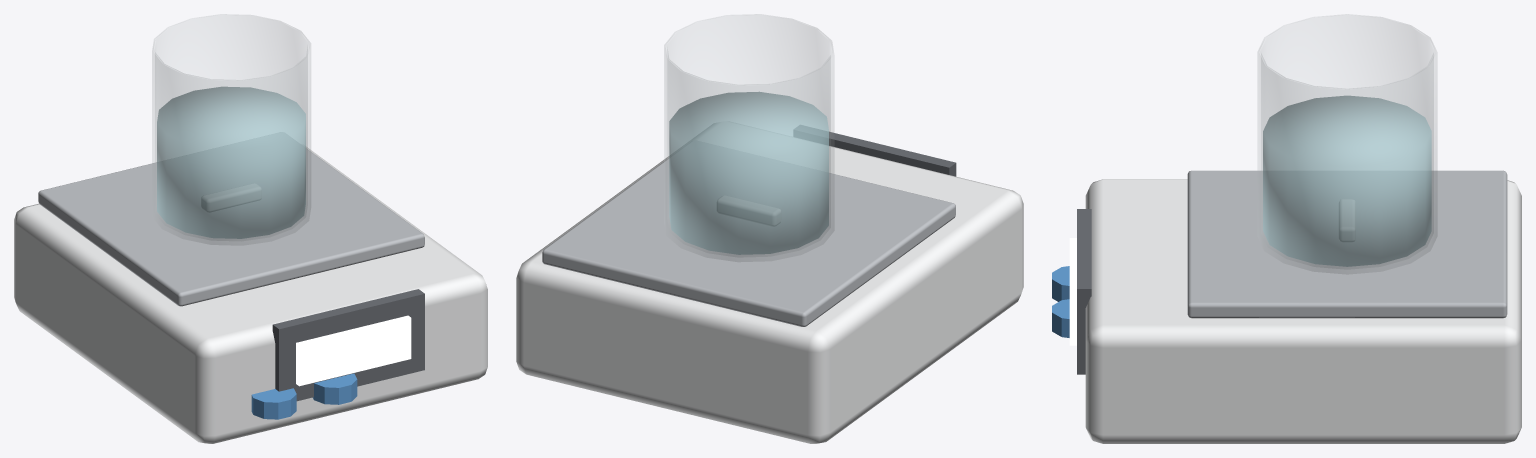
The model's file is hot-plate-stirrer.glb.
3 renders of one model, left to right at view 1: azimuth 30°, elevation 25°; view 2: azimuth 150°, elevation 25°; view 3: azimuth 270°, elevation 25°, orthographic. The views are drawn at different scales.
Parts seen in each view (by area): view 1: hot-plate-stirrer, stirrer; view 2: hot-plate-stirrer, stirrer; view 3: hot-plate-stirrer, stirrer.
Part boxes in pixels (x1=…): hot-plate-stirrer: x1=14, y1=14, x2=487, y2=443; stirrer: x1=201, y1=183, x2=261, y2=212; hot-plate-stirrer: x1=516, y1=14, x2=1023, y2=443; stirrer: x1=717, y1=195, x2=781, y2=226; hot-plate-stirrer: x1=1052, y1=14, x2=1521, y2=443; stirrer: x1=1339, y1=199, x2=1355, y2=241.
Size of the model in its own units: 0.26 by 0.242 by 0.3231.
